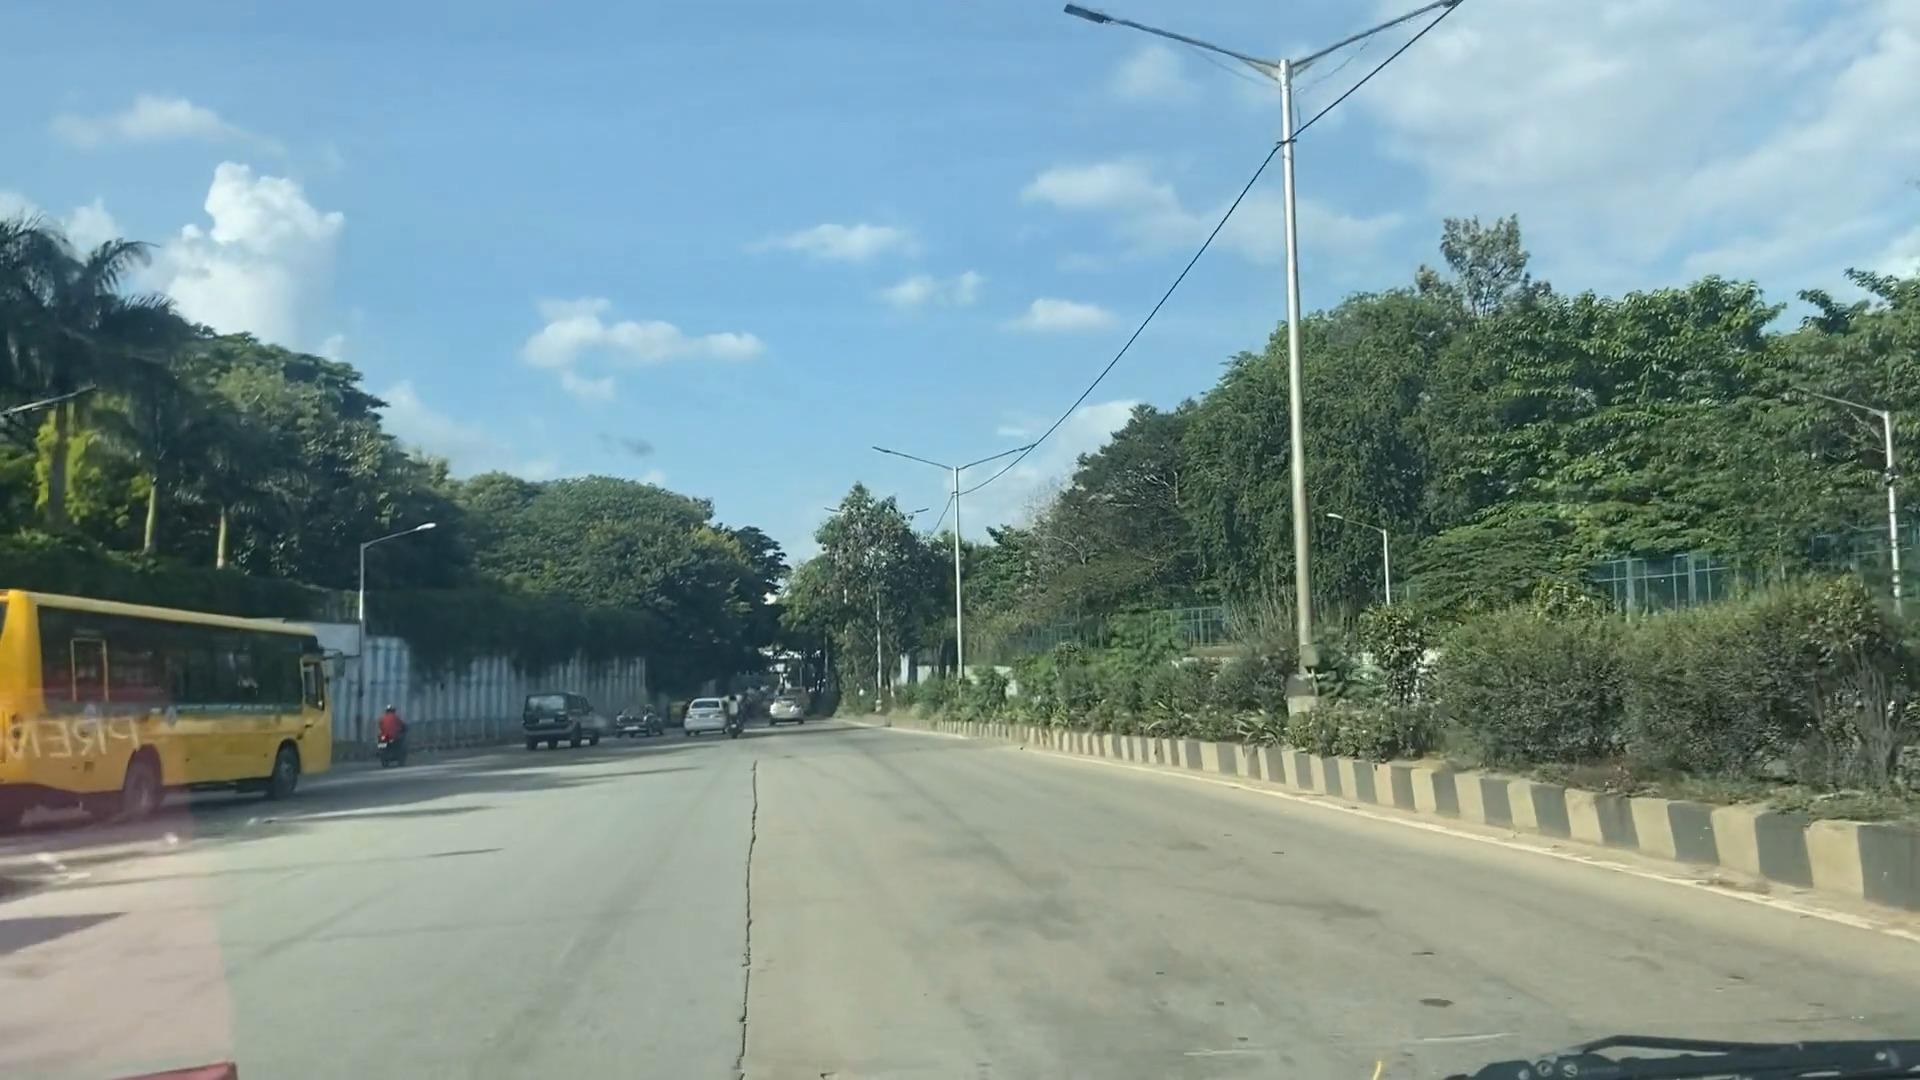RoadDamages: (716, 744, 767, 1080)
